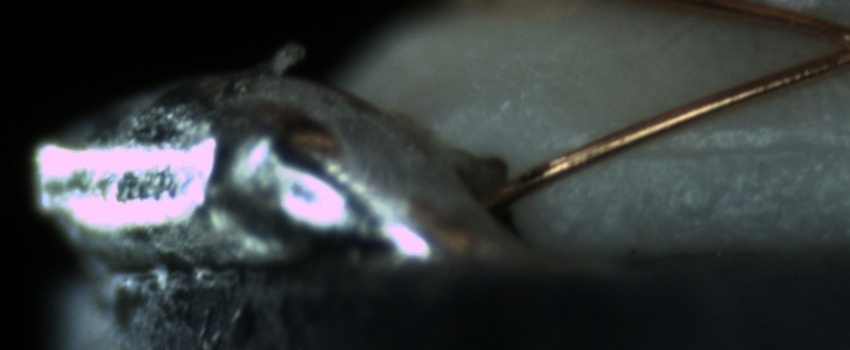CL: (802, 11, 850, 79)
DL: (619, 113, 845, 183)
